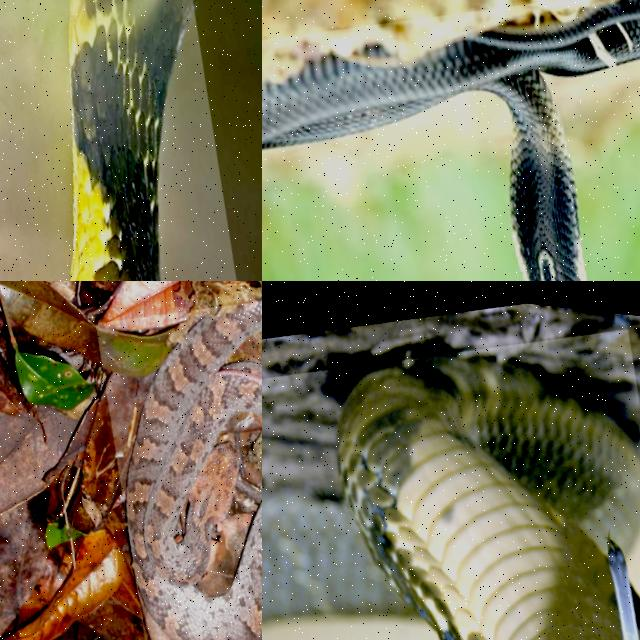Naja kaouthia: (262, 0, 639, 280)
Ophiophagus hannah: (262, 354, 639, 639), (68, 0, 192, 280)
Ovophis monticola: (126, 301, 261, 639)
